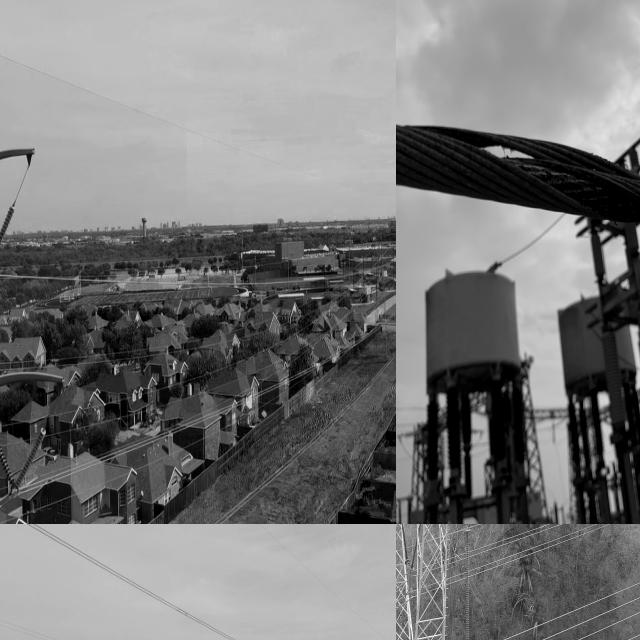杆塔: (396, 524, 469, 640)
正常电缆: (396, 524, 624, 633)
正常绝缘子: (4, 424, 53, 497), (0, 432, 22, 501), (462, 527, 473, 640), (0, 207, 16, 261), (409, 524, 423, 573), (400, 524, 410, 567)
电缆破损: (423, 111, 640, 239)
